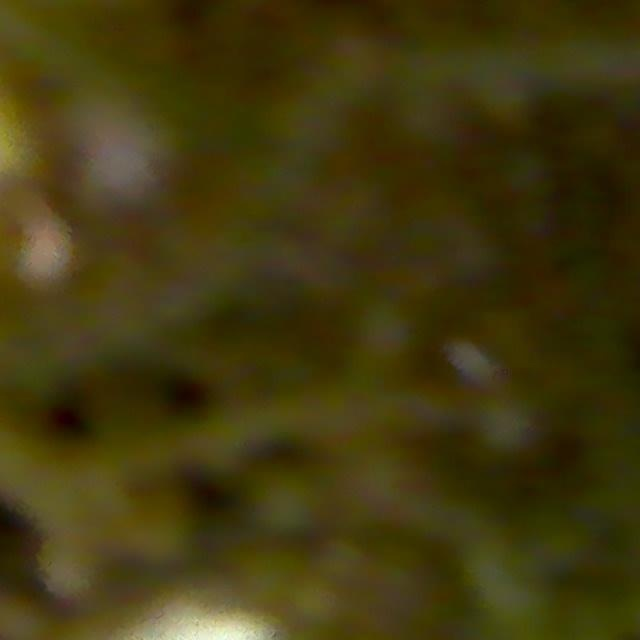SeaGrape: (470, 388, 548, 467), (250, 466, 327, 540), (353, 299, 418, 367), (288, 575, 350, 636)
